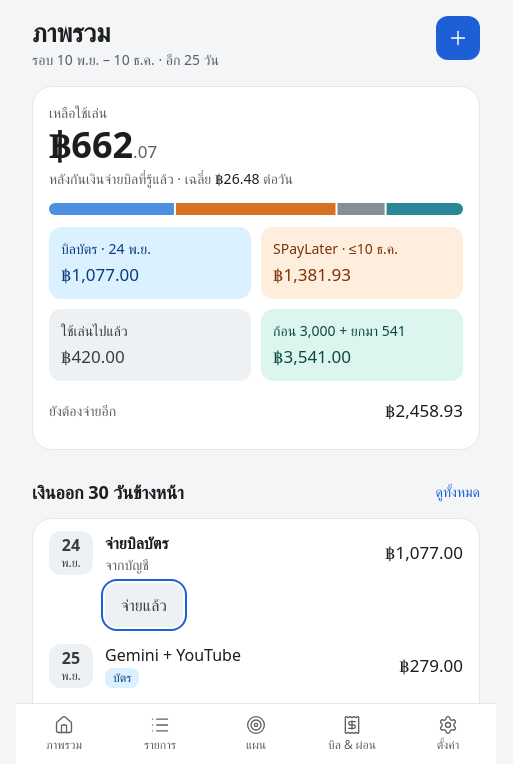
Scenario: <PreviewHome> › moves focus to the owed status region after paying, instead of dropping it to <body>
Click the button "จ่ายแล้ว" at (144, 605), box top-left (105, 583), bottom-right (183, 627)
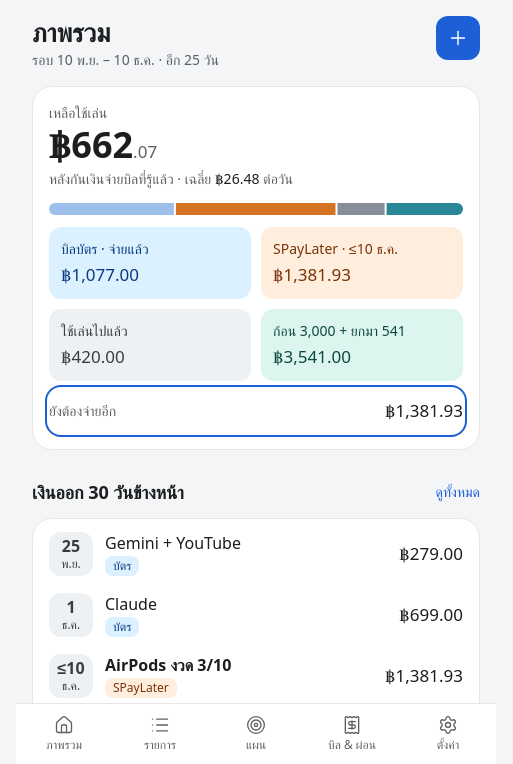
Result: the element with test id "owed" reads "฿1,381.93" at top-left (385, 399), bottom-right (463, 423)
Result: the text "จ่ายบิลบัตร" is gone
